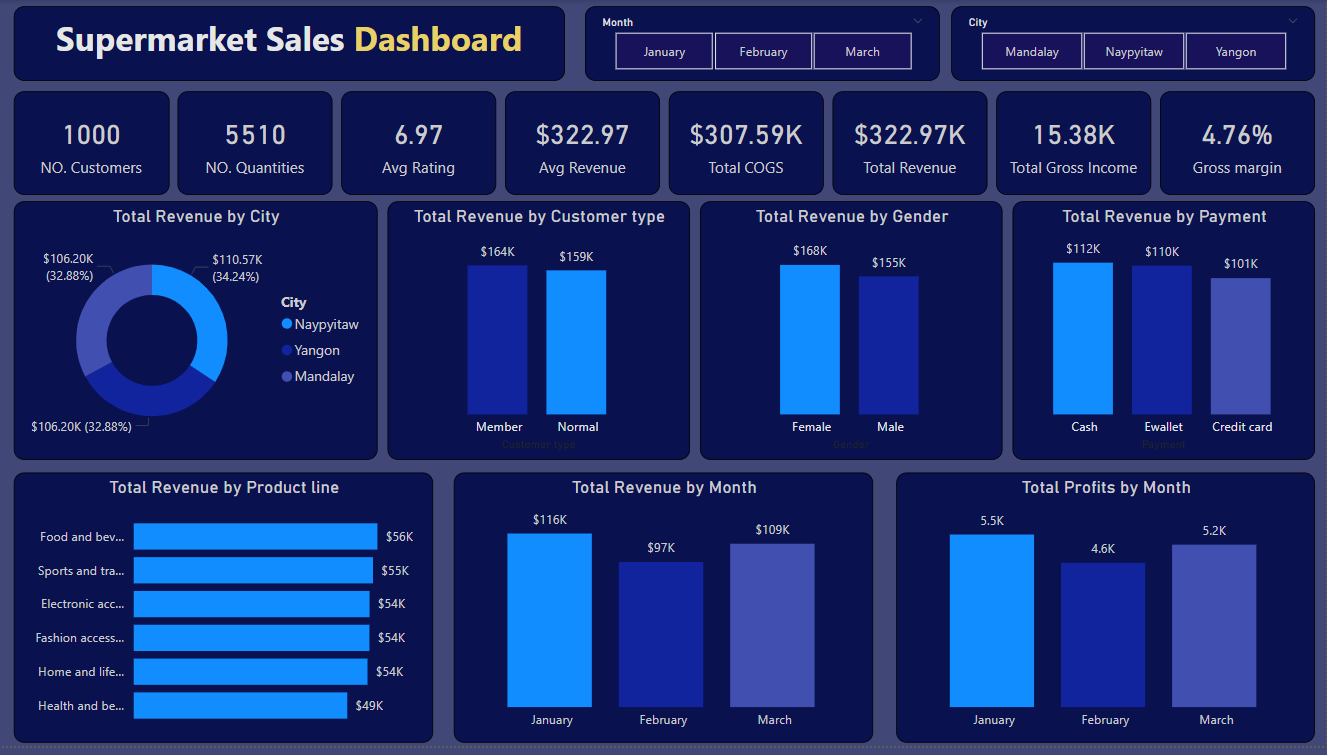

The page's visual inventory and layout, read from the dashboard file:
{"tool":"powerbi","page":{"name":"Page 1","canvas":[1280,720],"ordinal":0},"visuals":[{"type":"textbox","box":[13.3,6,532,72.4],"z":0},{"type":"card","fields":{"Values":["supermarket_sales.No Invoices"]},"box":[13.3,88.2,150,100],"z":1000},{"type":"card","fields":{"Values":["supermarket_sales.No. Quantities"]},"box":[171.7,88.1,149.6,100.1],"z":2000},{"type":"card","fields":{"Values":["supermarket_sales.Avg Rating"]},"box":[329.6,88.1,149.6,100.1],"z":3000},{"type":"card","fields":{"Values":["supermarket_sales.Avg Revenue"]},"box":[487.6,88.1,149.6,100.1],"z":4000},{"type":"card","fields":{"Values":["supermarket_sales.Total Revenue"]},"box":[803.6,88.1,149.6,100.1],"z":5000},{"type":"card","fields":{"Values":["supermarket_sales.Total COGS"]},"box":[645.6,88.1,149.6,100.1],"z":6000},{"type":"donutChart","fields":{"Category":["supermarket_sales.City"],"Y":["supermarket_sales.Total Revenue"]},"box":[13.3,194.2,351.1,249.7],"z":7000},{"type":"barChart","fields":{"Category":["supermarket_sales.Product line"],"Y":["supermarket_sales.Total Revenue"]},"box":[13.3,456,405,260.6],"z":8000},{"type":"columnChart","fields":{"Category":["supermarket_sales.Month"],"Y":["supermarket_sales.Total Revenue"]},"box":[438.5,456,405,260.6],"z":9000},{"type":"columnChart","fields":{"Y":["supermarket_sales.Total Revenue"],"Category":["supermarket_sales.Payment"]},"box":[977.2,194.2,292,249.7],"z":10000},{"type":"slicer","fields":{"Values":["supermarket_sales.Month"]},"box":[564.6,6,342.6,72.4],"z":11000},{"type":"card","fields":{"Values":["supermarket_sales.Total Gross Income"]},"box":[961.6,88.1,149.6,100.1],"z":12000},{"type":"slicer","fields":{"Values":["supermarket_sales.City"]},"box":[918.1,6,351.1,72.4],"z":13000},{"type":"columnChart","fields":{"Y":["supermarket_sales.Total Revenue"],"Category":["supermarket_sales.Gender"]},"box":[675.6,194.2,292,249.7],"z":14000},{"type":"columnChart","fields":{"Y":["supermarket_sales.Total Revenue"],"Category":["supermarket_sales.Customer type"]},"box":[374,194.2,292,249.7],"z":15000},{"type":"card","fields":{"Values":["supermarket_sales.Gross margin"]},"box":[1119.6,88.1,149.6,100.1],"z":16000},{"type":"columnChart","title":"Total Profits by Month","fields":{"Category":["supermarket_sales.Month"],"Y":["supermarket_sales.Total Gross Income"]},"box":[865,456,404.2,260.6],"z":17000}]}

Visuals, with their boxes in screenshot pixels (x1, y1, x2, y2), scaled from the page's 1280x720 canvas onto the 1327x755 screenshot:
textbox: <bbox>14, 6, 565, 82</bbox>
card - supermarket_sales.No Invoices: <bbox>14, 92, 169, 197</bbox>
card - supermarket_sales.No. Quantities: <bbox>178, 92, 333, 197</bbox>
card - supermarket_sales.Avg Rating: <bbox>342, 92, 497, 197</bbox>
card - supermarket_sales.Avg Revenue: <bbox>506, 92, 661, 197</bbox>
card - supermarket_sales.Total Revenue: <bbox>833, 92, 988, 197</bbox>
card - supermarket_sales.Total COGS: <bbox>669, 92, 824, 197</bbox>
donutChart - supermarket_sales.City x supermarket_sales.Total Revenue: <bbox>14, 204, 378, 465</bbox>
barChart - supermarket_sales.Product line x supermarket_sales.Total Revenue: <bbox>14, 478, 434, 751</bbox>
columnChart - supermarket_sales.Month x supermarket_sales.Total Revenue: <bbox>455, 478, 874, 751</bbox>
columnChart - supermarket_sales.Total Revenue x supermarket_sales.Payment: <bbox>1013, 204, 1316, 465</bbox>
slicer - supermarket_sales.Month: <bbox>585, 6, 941, 82</bbox>
card - supermarket_sales.Total Gross Income: <bbox>997, 92, 1152, 197</bbox>
slicer - supermarket_sales.City: <bbox>952, 6, 1316, 82</bbox>
columnChart - supermarket_sales.Total Revenue x supermarket_sales.Gender: <bbox>700, 204, 1003, 465</bbox>
columnChart - supermarket_sales.Total Revenue x supermarket_sales.Customer type: <bbox>388, 204, 690, 465</bbox>
card - supermarket_sales.Gross margin: <bbox>1161, 92, 1316, 197</bbox>
"Total Profits by Month" columnChart: <bbox>897, 478, 1316, 751</bbox>
